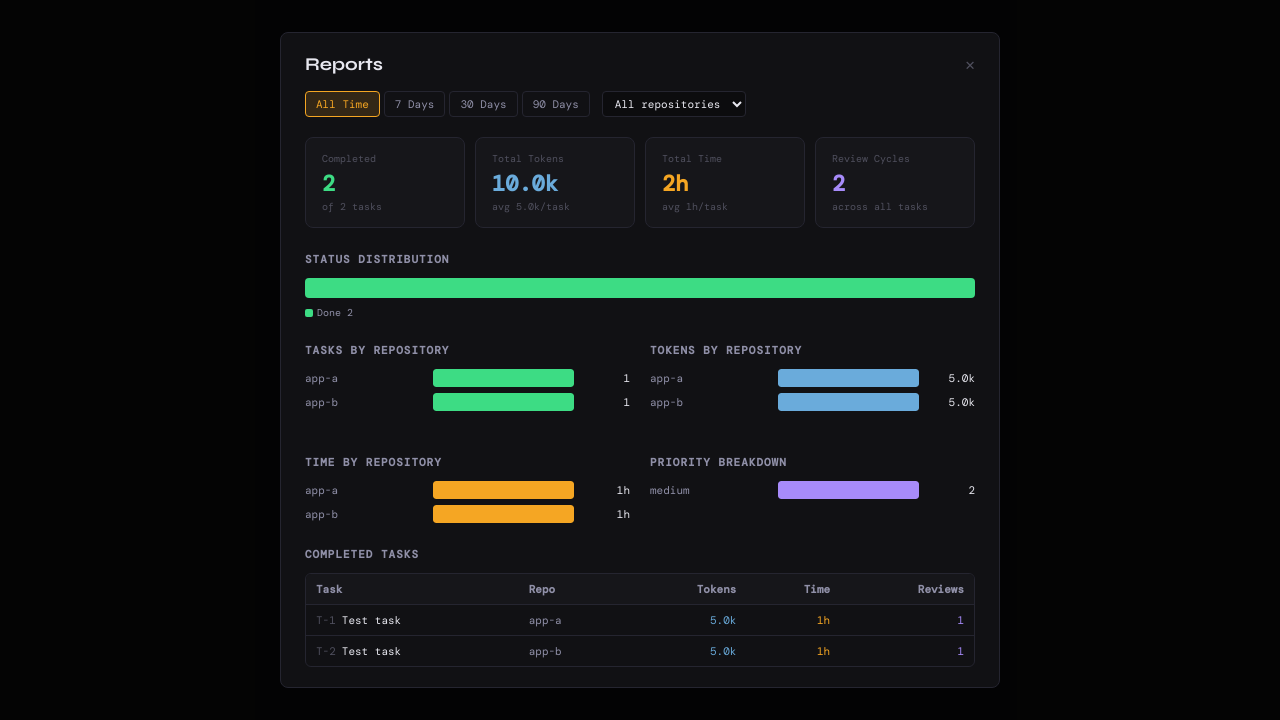
it: ReportsModal › filters tasks by repository
Expected: the text "of 2 tasks" is shown, [322,200,382,213]
Filter to app-a
Select "app-a" in the dropdown at (674, 104), box [602,91,746,117]
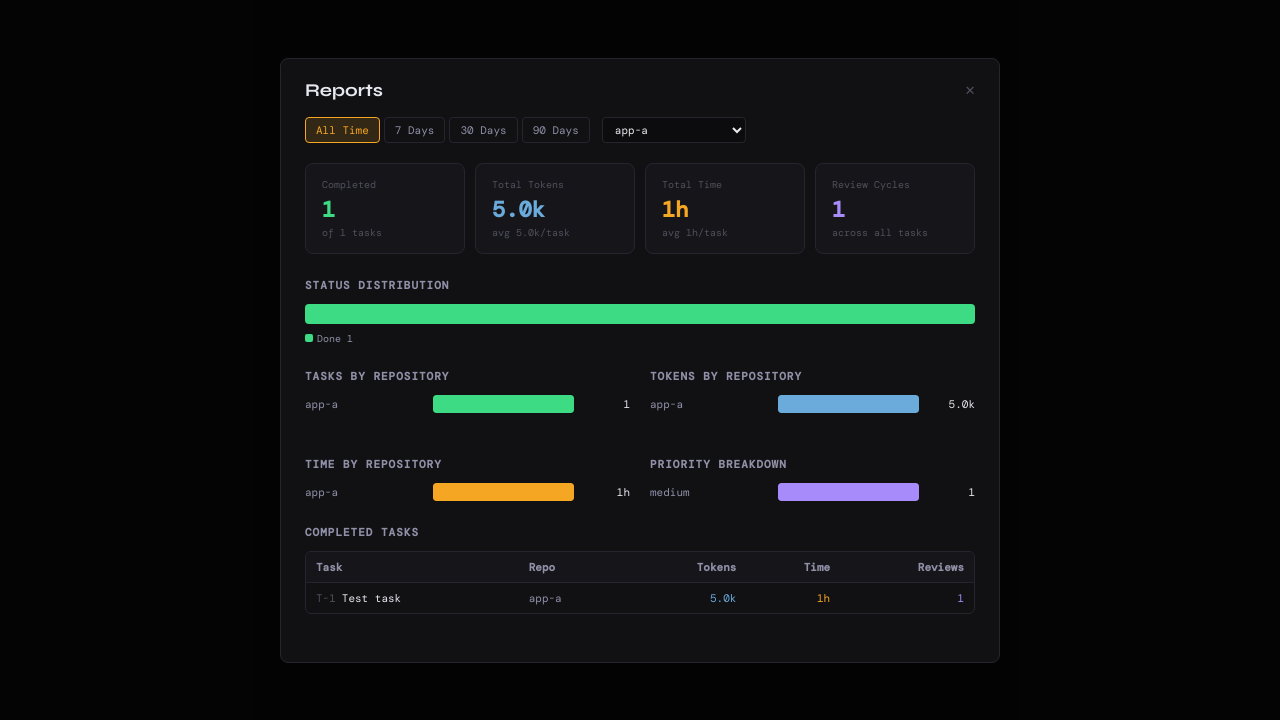
Expected: the text "of 1 tasks" is shown, [322,226,382,238]
